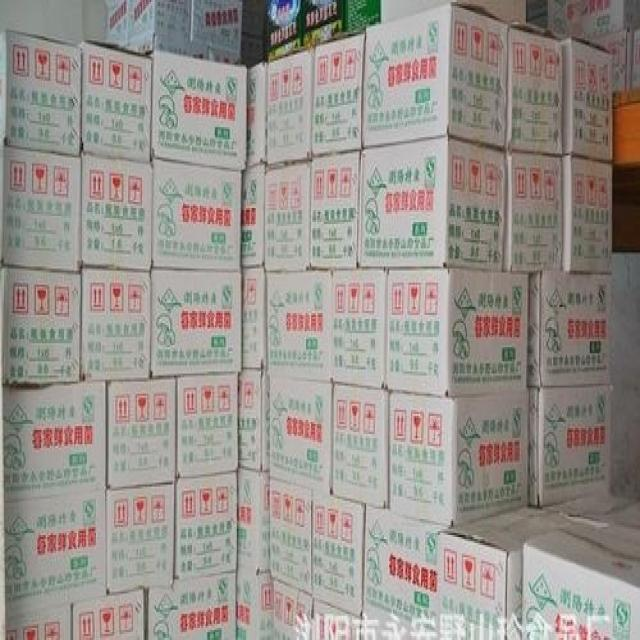box: (363, 4, 509, 150), (360, 135, 507, 270), (387, 389, 529, 528), (435, 504, 582, 638), (388, 268, 528, 394), (524, 517, 639, 638), (1, 488, 107, 617), (1, 380, 108, 500), (365, 503, 453, 638), (152, 48, 247, 171), (151, 155, 243, 275), (526, 384, 611, 507), (0, 146, 82, 271), (0, 261, 82, 386), (1, 29, 82, 155), (527, 271, 613, 386), (153, 270, 243, 376), (76, 40, 154, 162), (80, 153, 152, 272), (81, 262, 151, 381), (106, 482, 176, 593), (107, 377, 176, 489), (268, 268, 334, 381), (506, 26, 562, 157), (268, 376, 332, 490), (174, 470, 239, 582), (331, 382, 388, 506), (504, 147, 562, 268), (332, 268, 389, 390), (313, 486, 365, 617), (175, 375, 239, 479), (560, 153, 614, 275), (315, 33, 365, 160), (562, 37, 613, 160), (310, 153, 363, 268), (145, 575, 238, 638), (267, 47, 314, 168), (264, 161, 312, 271), (270, 479, 314, 594), (574, 30, 639, 90), (71, 590, 147, 637), (190, 0, 244, 62), (239, 367, 270, 472), (239, 470, 270, 572), (549, 4, 639, 39), (242, 261, 268, 370), (0, 602, 74, 638), (241, 163, 266, 266), (236, 572, 274, 638), (272, 577, 313, 638), (543, 491, 635, 517), (246, 61, 268, 169), (265, 2, 303, 58), (314, 595, 363, 638), (301, 3, 346, 48), (382, 3, 455, 25), (596, 496, 639, 529), (346, 3, 382, 39), (456, 3, 526, 20), (105, 2, 127, 50), (241, 2, 266, 38), (239, 34, 265, 66), (526, 12, 550, 32), (525, 0, 548, 17), (361, 620, 381, 638)
